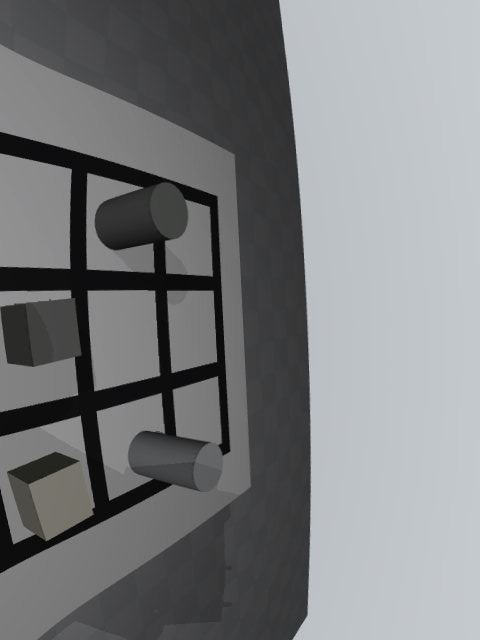can: (128, 431, 223, 492)
cube: (0, 298, 82, 367)
cylinder: (94, 182, 188, 251)
foam: (7, 452, 94, 542)
